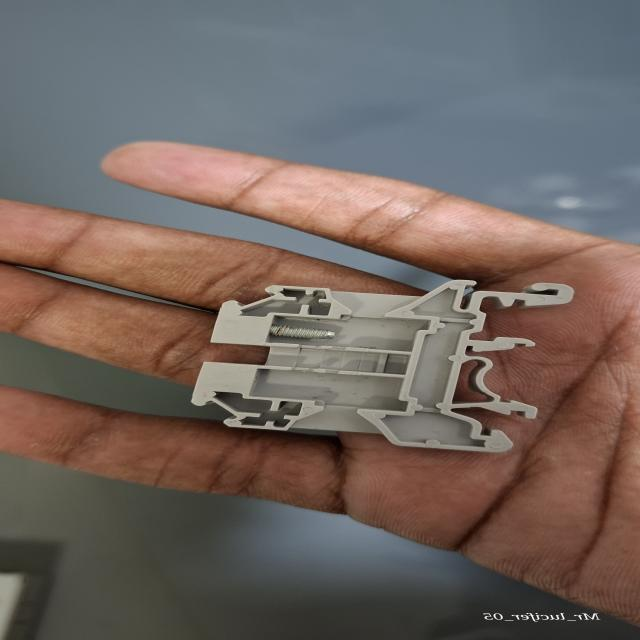Reject: (174, 274, 583, 456)
